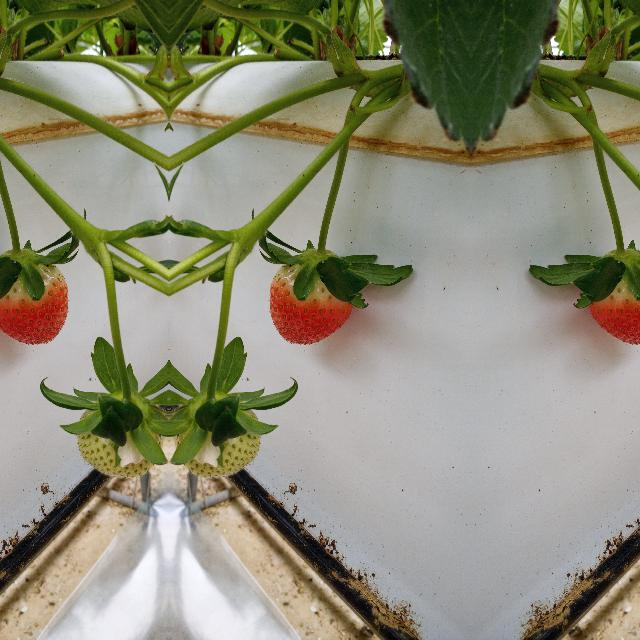Health_100: (267, 248, 353, 344), (0, 247, 69, 344), (588, 247, 640, 344)
Health_25: (171, 386, 263, 484), (73, 386, 165, 484)
